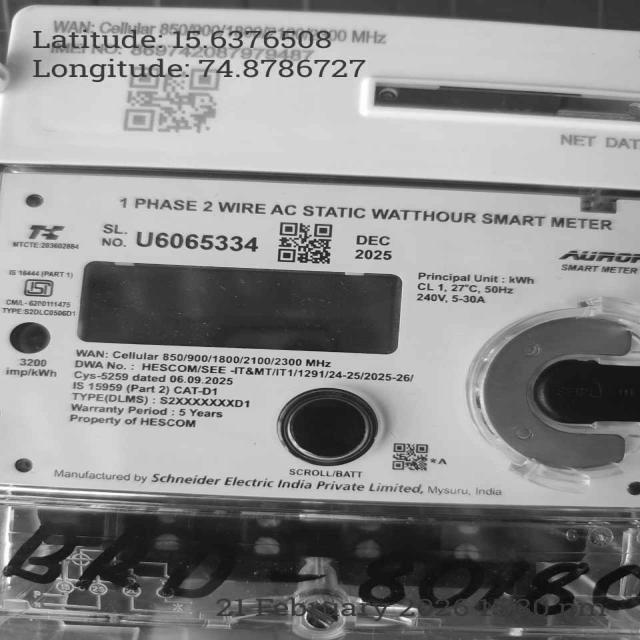meter: (13, 1, 640, 504)
